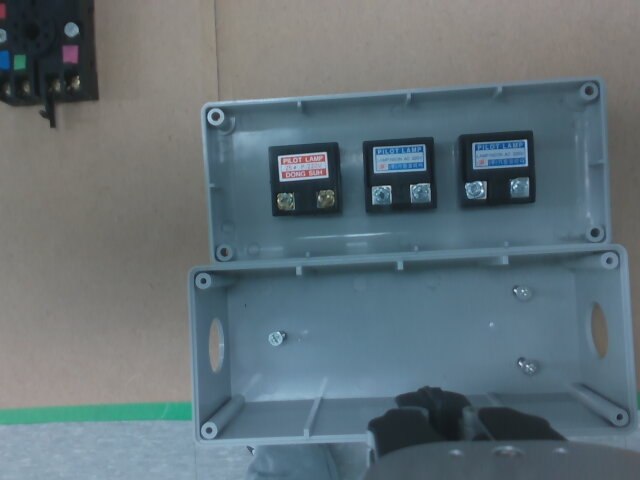L1(1): (276, 193, 294, 211)
L1(2): (315, 190, 335, 208)
L2(1): (370, 185, 391, 205)
L2(2): (409, 184, 431, 204)
L3(1): (467, 181, 486, 199)
L3(2): (509, 177, 529, 198)
